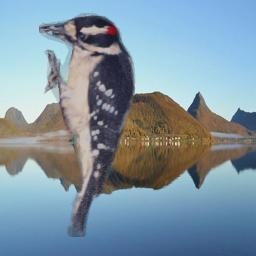Woodpecker: (39, 10, 139, 237)
